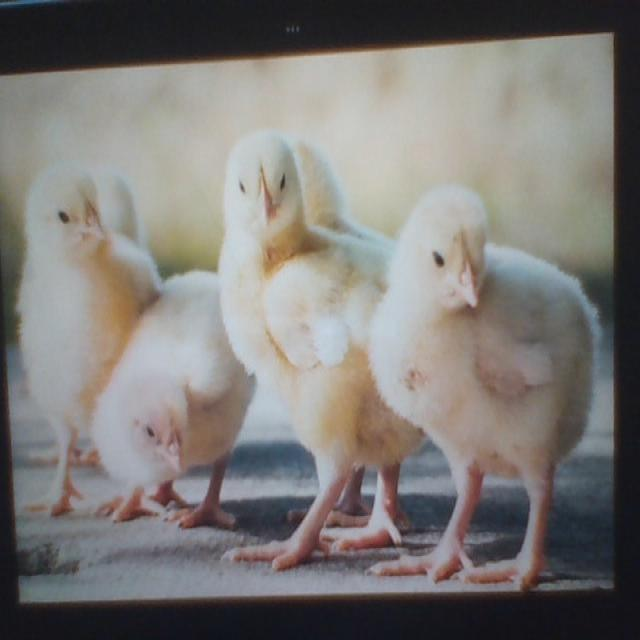Healthy: (385, 180, 591, 590), (220, 138, 408, 564), (13, 172, 132, 405)
Sick: (98, 267, 246, 534)
